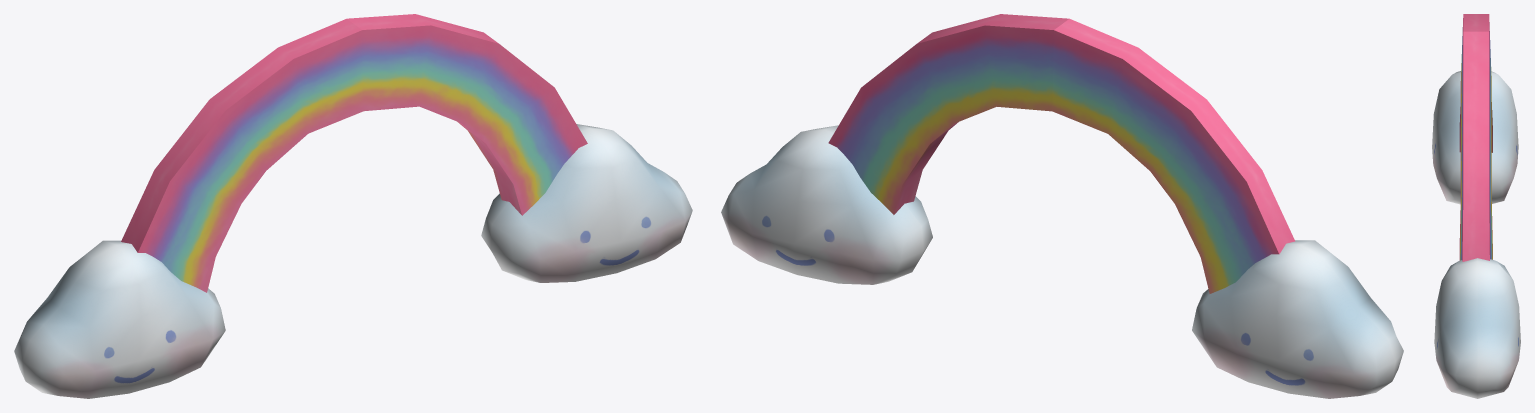
Rendered from rainbow.fbx.
3 views of the same model, side by side, from view 1: azimuth 30°, elevation 25°; view 2: azimuth 150°, elevation 25°; view 3: azimuth 270°, elevation 25° (orthographic). The views are drawn at different scales.
Parts seen in each view (by area): view 1: polySurface7; view 2: polySurface7; view 3: polySurface7.
Part boxes in pixels (<box>): polySurface7: <box>14,14,692,398</box>; polySurface7: <box>721,14,1403,398</box>; polySurface7: <box>1432,14,1520,398</box>.
Size of the model in its own units: 73.28 by 32.4 by 10.28.
1 material, 1 textured.
